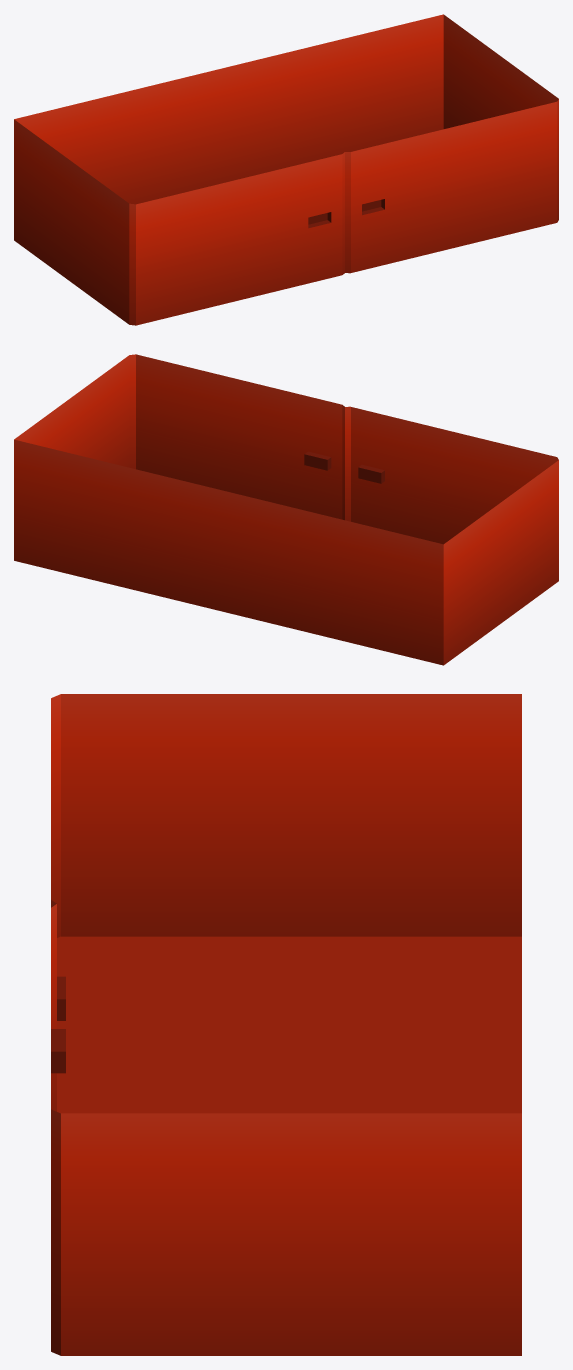
Rendered from Counter_01_v06_D_C04.fbx.
3 views of the same model, one above another, from view 1: azimuth 30°, elevation 25°; view 2: azimuth 150°, elevation 25°; view 3: azimuth 270°, elevation 25° (orthographic). The views are drawn at different scales.
Parts seen in each view (by area): view 1: Counter_01_v06_D_C04; view 2: Counter_01_v06_D_C04; view 3: Counter_01_v06_D_C04.
Part boxes in pixels (<box>): Counter_01_v06_D_C04: <box>14,14,558,325</box>; Counter_01_v06_D_C04: <box>14,354,558,665</box>; Counter_01_v06_D_C04: <box>51,694,521,1355</box>.
Size of the model in its own units: 200 by 53.91 by 94.97.
